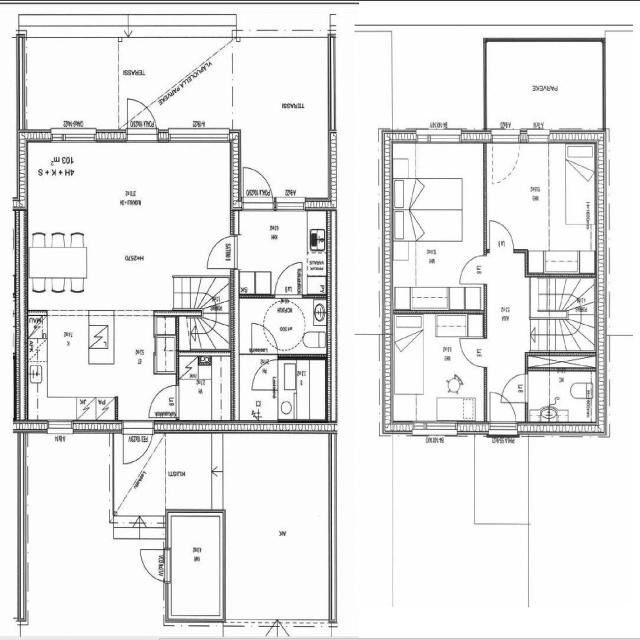door: (245, 295, 331, 356), (485, 130, 521, 189), (238, 161, 276, 208), (119, 420, 155, 464), (202, 230, 239, 270), (122, 94, 159, 132), (487, 386, 520, 428), (146, 380, 180, 419), (245, 358, 278, 397), (486, 214, 518, 253), (456, 250, 489, 286), (138, 544, 168, 583), (456, 334, 489, 369), (273, 260, 304, 296), (248, 321, 278, 355), (501, 371, 530, 404), (208, 460, 226, 499)
window: (160, 125, 233, 148), (239, 25, 329, 42), (414, 124, 467, 146), (409, 418, 461, 440), (43, 128, 101, 145), (43, 416, 77, 434), (273, 196, 309, 213)
zone: (25, 135, 232, 311), (223, 433, 332, 625), (387, 137, 488, 312), (233, 32, 332, 205), (485, 136, 602, 269), (385, 309, 486, 428), (484, 38, 605, 134), (22, 308, 120, 423), (232, 207, 334, 296), (166, 510, 225, 621), (246, 294, 332, 356), (524, 363, 600, 427), (26, 230, 88, 304), (176, 350, 236, 422), (275, 355, 331, 421), (236, 353, 278, 422), (535, 350, 596, 370)
